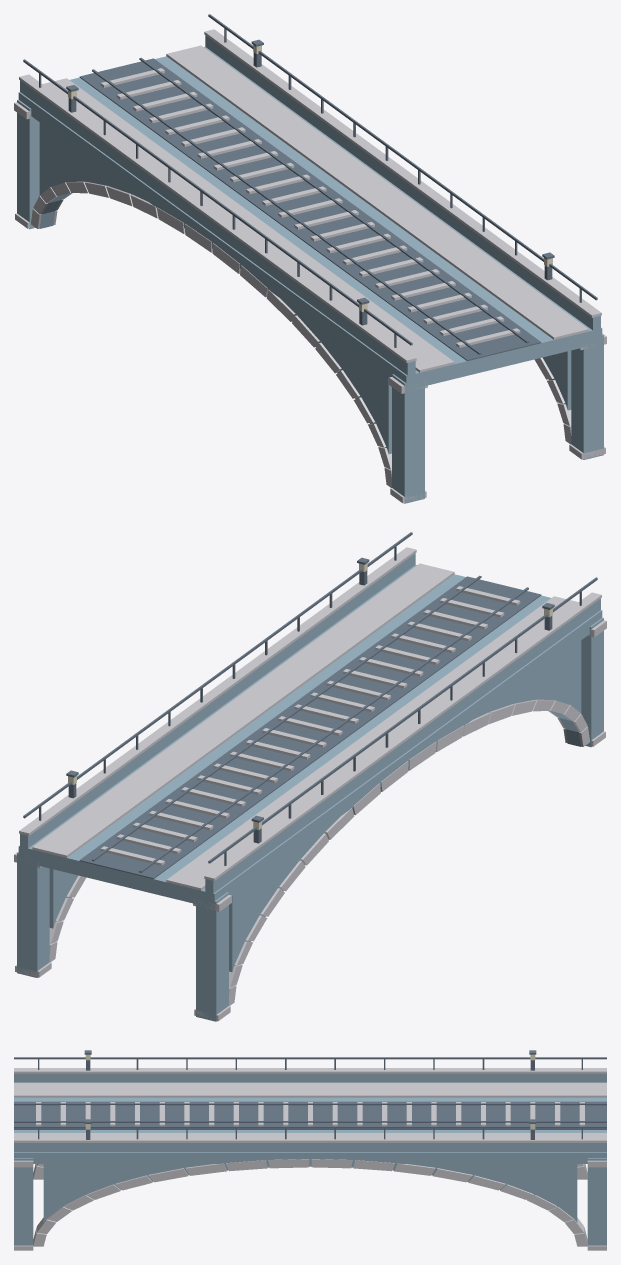
Rendered from LayeredArchViaduct.fbx.
3 renders of one model, top to bottom at view 1: azimuth 30°, elevation 25°; view 2: azimuth 150°, elevation 25°; view 3: azimuth 270°, elevation 25°, orthographic. The views are drawn at different scales.
Parts seen in each view (by area): view 1: LayeredArchViaduct_LM_Stone, LayeredArchViaduct_LM_Mineral, LayeredArchViaduct_LM_Ink; view 2: LayeredArchViaduct_LM_Stone, LayeredArchViaduct_LM_Mineral, LayeredArchViaduct_LM_Ink; view 3: LayeredArchViaduct_LM_Mineral, LayeredArchViaduct_LM_Stone, LayeredArchViaduct_LM_Ink.
Boxes of the visible parts, x1=… form: LayeredArchViaduct_LM_Stone: x1=14, y1=29, x2=606, y2=503; LayeredArchViaduct_LM_Mineral: x1=17, y1=35, x2=603, y2=503; LayeredArchViaduct_LM_Ink: x1=23, y1=14, x2=597, y2=360; LayeredArchViaduct_LM_Stone: x1=14, y1=547, x2=606, y2=1021; LayeredArchViaduct_LM_Mineral: x1=17, y1=553, x2=603, y2=1021; LayeredArchViaduct_LM_Ink: x1=23, y1=532, x2=597, y2=878; LayeredArchViaduct_LM_Mineral: x1=14, y1=1073, x2=606, y2=1245; LayeredArchViaduct_LM_Stone: x1=14, y1=1068, x2=606, y2=1250; LayeredArchViaduct_LM_Ink: x1=14, y1=1050, x2=606, y2=1139.
Size of the model in its own units: 7.34 by 5.69 by 24.
